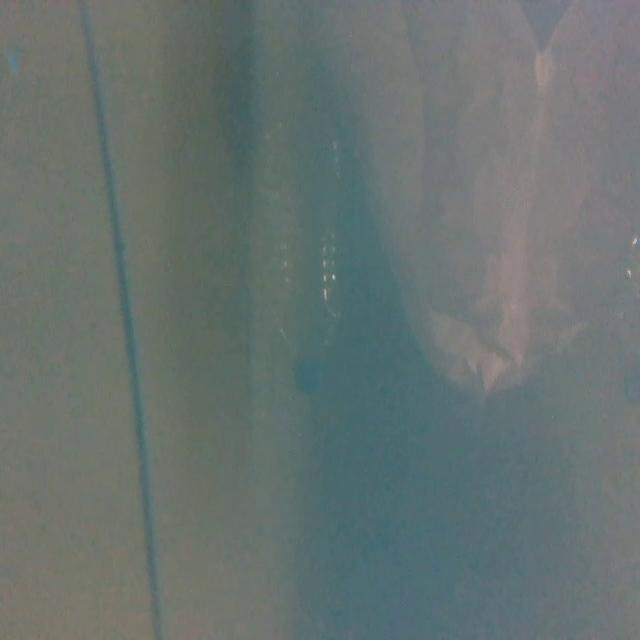plastic bags: (354, 0, 640, 451)
plastic bottle: (258, 89, 363, 417)
